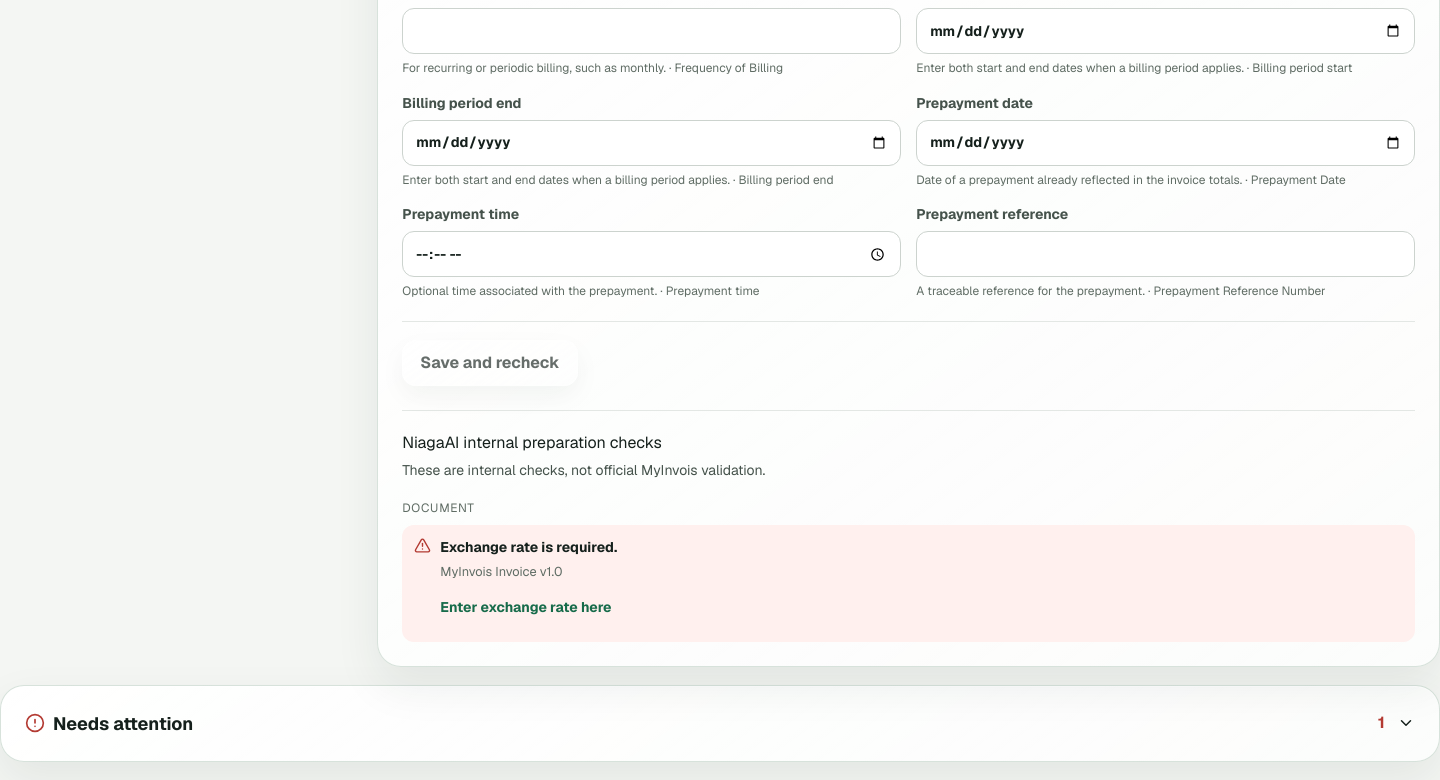
Test: EInvoiceWorkspace › keeps submission history discoverable after a refresh
(page scrolled)
Check: the element with id "needs-attention" is shown, box [0,685,1439,762]
Click the text "Needs attention".
click(109, 723)  # box [25,712,193,735]
(page scrolled)
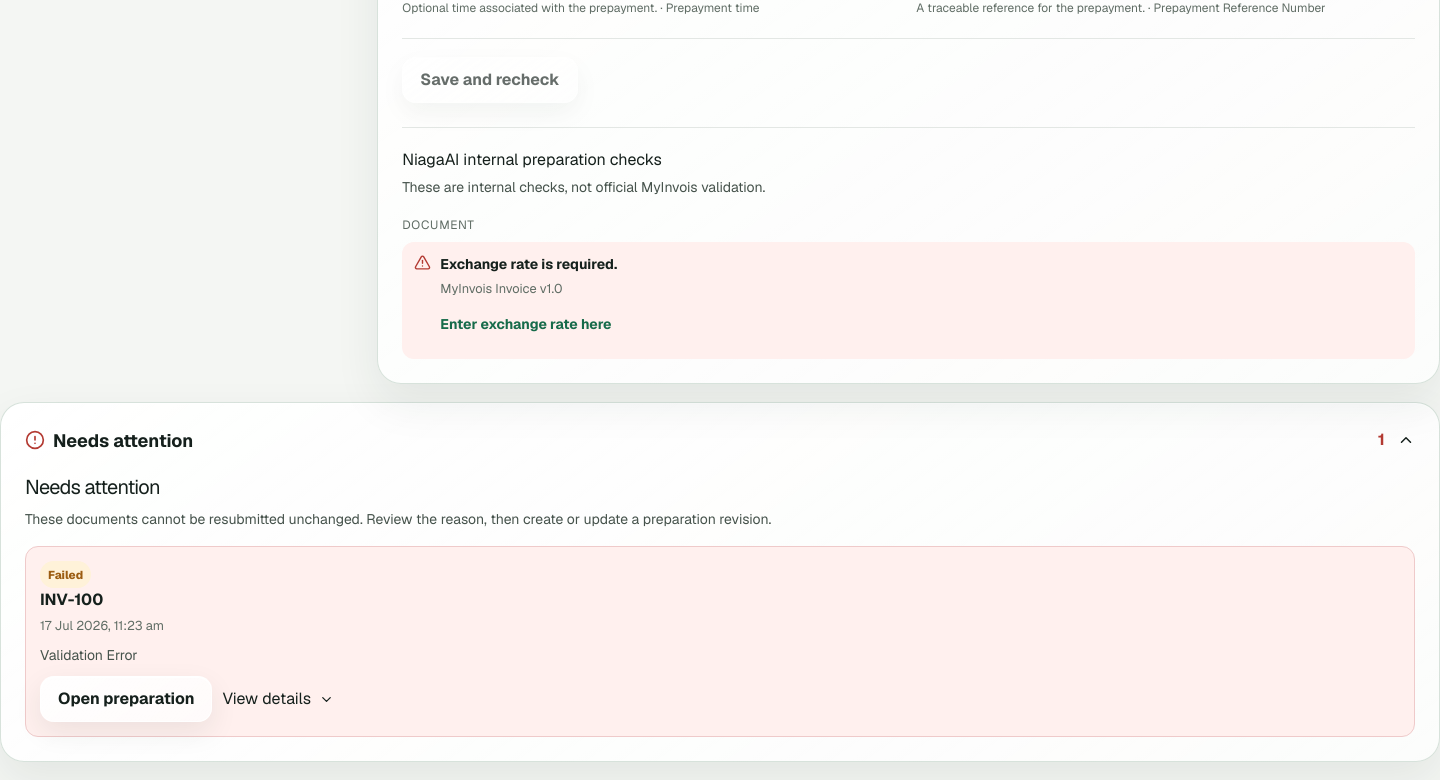
Check: the heading "Needs attention" is shown, box [25,474,160,500]
Click the heading "View details".
click(278, 699)  # box [222,687,334,711]
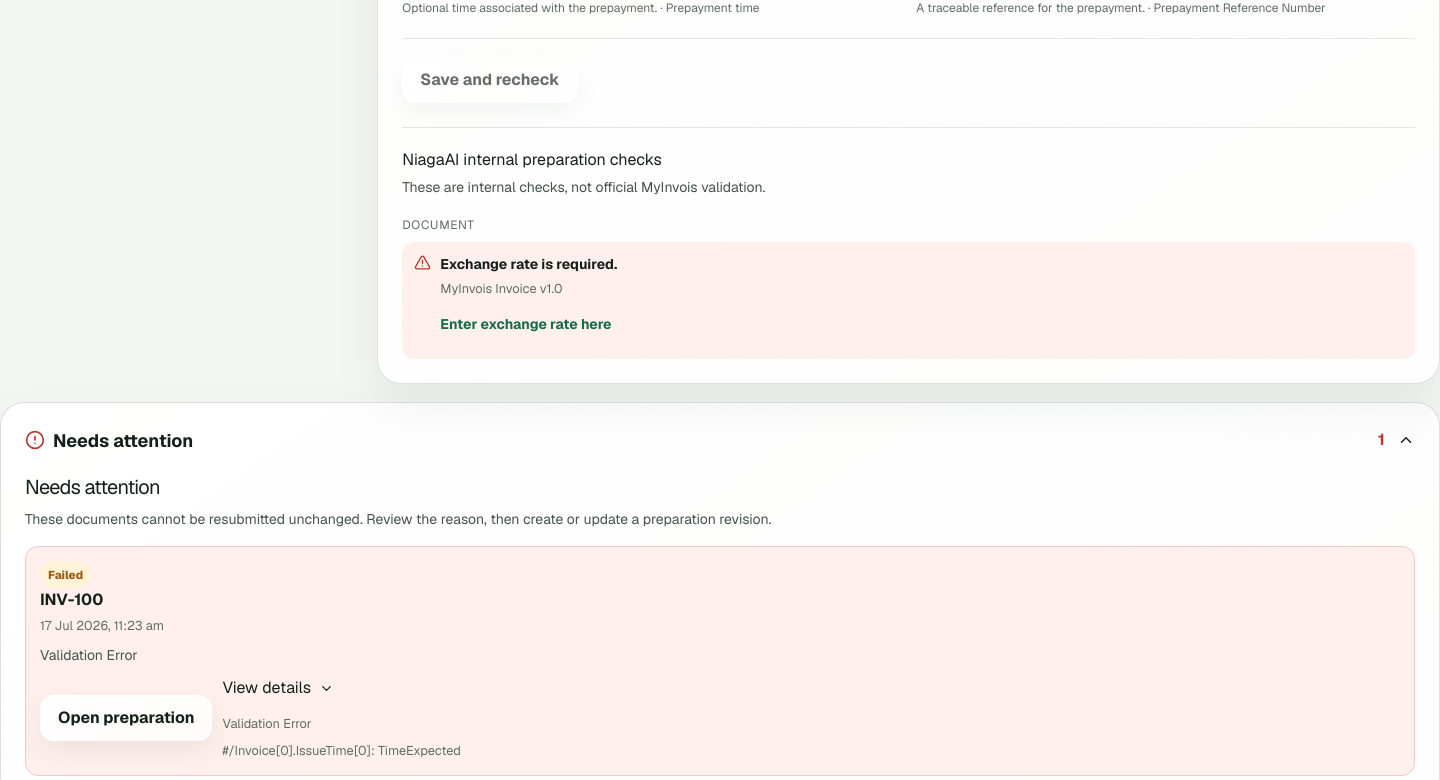
Check: the text "#/Invoice[0].IssueTime[0]: TimeExpected" is shown, box [222,741,461,761]
